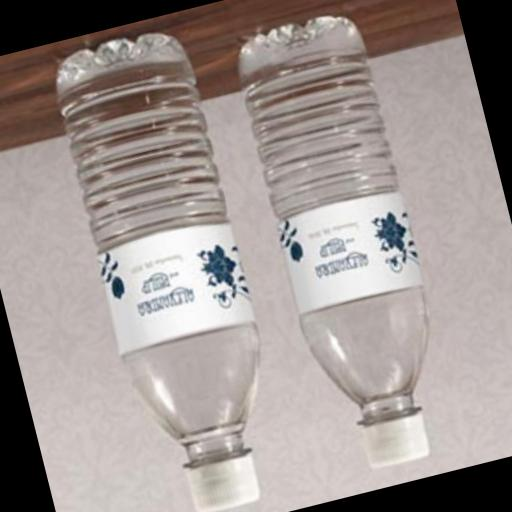Coca: (33, 10, 315, 512), (217, 0, 474, 491)
